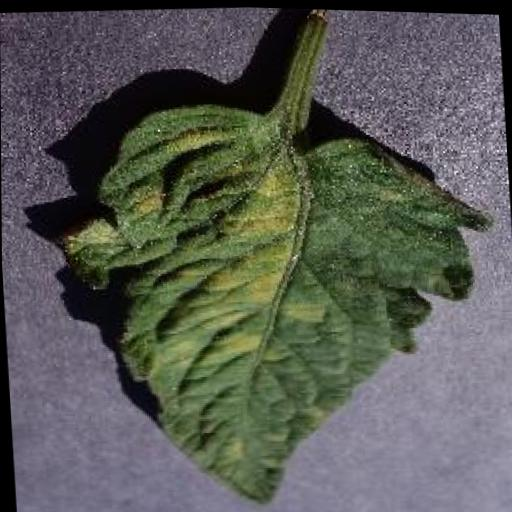Leaf Mold: (54, 82, 507, 512)
